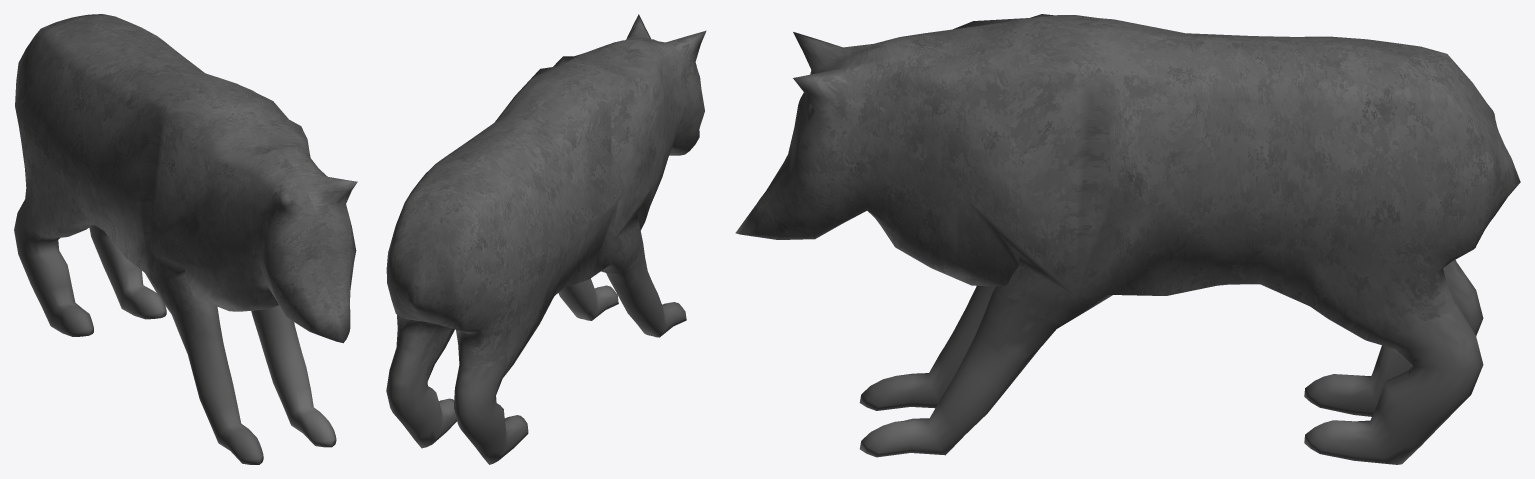
The model's file is piesblend_000037.obj.
The picture shows the model from 3 angles, left to right: view 1: azimuth 30°, elevation 25°; view 2: azimuth 150°, elevation 25°; view 3: azimuth 270°, elevation 25°; orthographic projection. The views are drawn at different scales.
Visible parts, largest first — view 1: Cube; view 2: Cube; view 3: Cube.
Part boxes in pixels (x1,y1,x2,y2): Cube: [14, 14, 357, 464]; Cube: [386, 14, 706, 464]; Cube: [735, 14, 1520, 464].
Size of the model in its own units: 2.55 by 5.2 by 8.97.
Materials: 1 (1 with a texture image).
